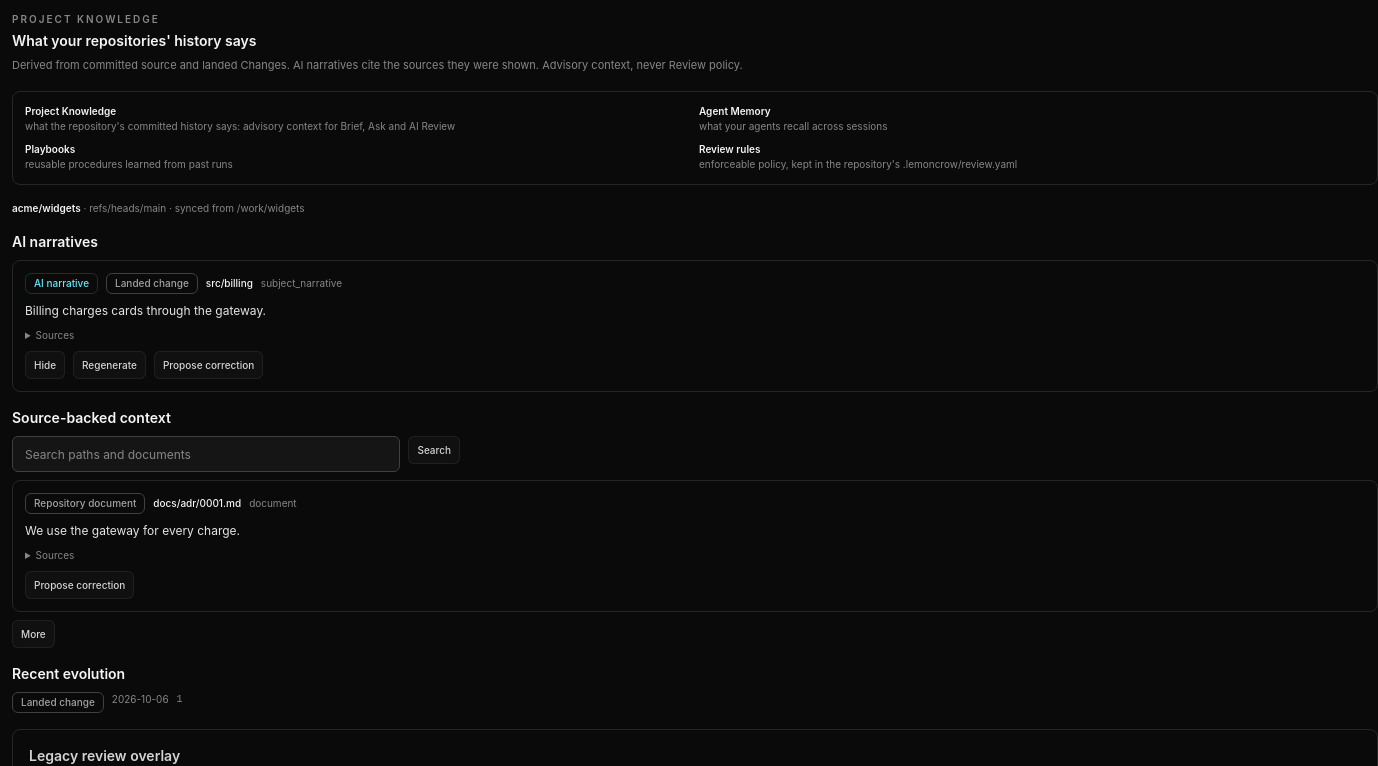
Test case: ProjectKnowledge › reports a refused regenerate instead of claiming it queued
expect the text "Billing charges cards through the gateway." is shown: met, box [25,303,266,318]
Click the button "Regenerate". click: (109, 365)
box: [73,351,146,379]
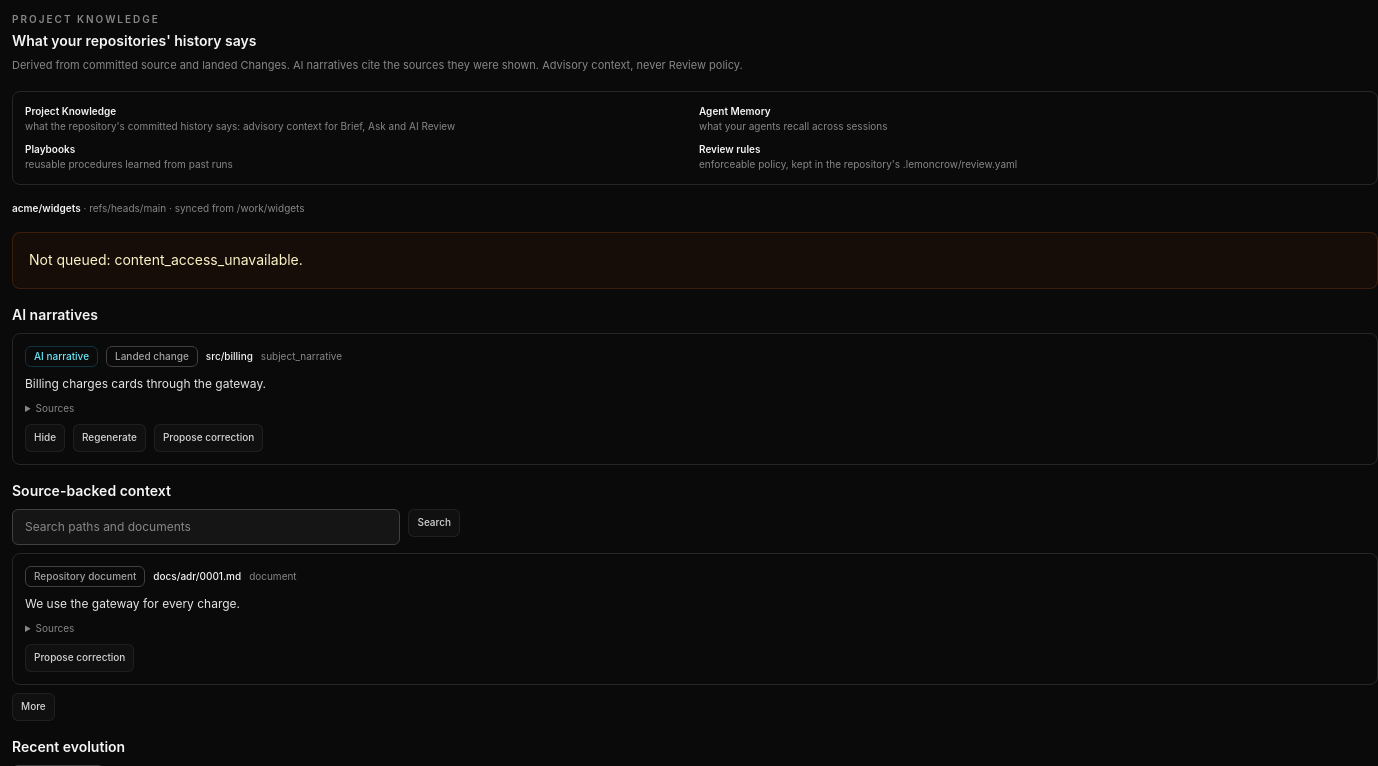
expect the message with test id "project-knowledge-notice" reads "Not queued: content_access_unavailable.": met, box [29,251,303,268]
